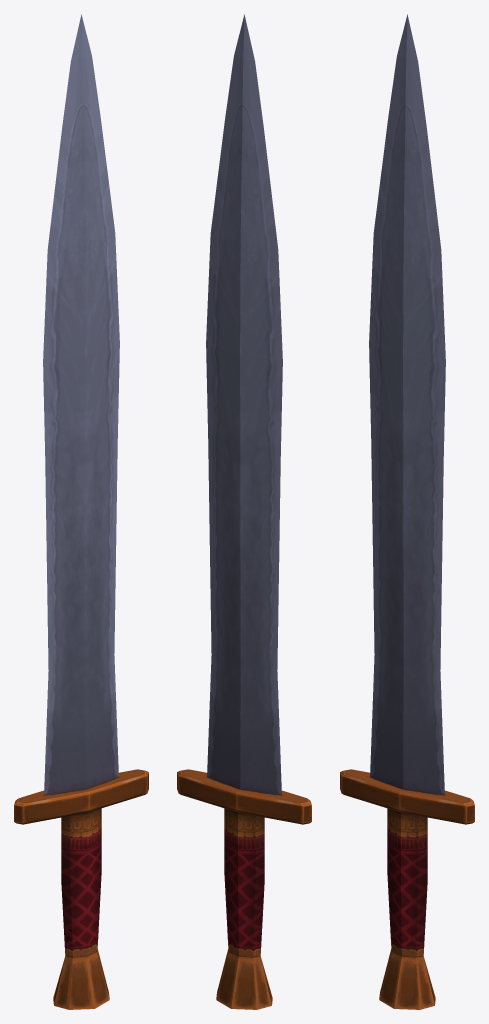
File: Sword.obj
3 views of the same model, side by side, from view 1: azimuth 30°, elevation 25°; view 2: azimuth 150°, elevation 25°; view 3: azimuth 330°, elevation 25° (orthographic).
Parts seen in each view (by area): view 1: Sword_Cube.004; view 2: Sword_Cube.004; view 3: Sword_Cube.004.
Part boxes in pixels (x1,y1,x2,y2): Sword_Cube.004: (14,14,148,1009); Sword_Cube.004: (177,14,311,1009); Sword_Cube.004: (340,14,474,1009).
Size of the model in its own units: 3.32 by 23.35 by 1.14.
